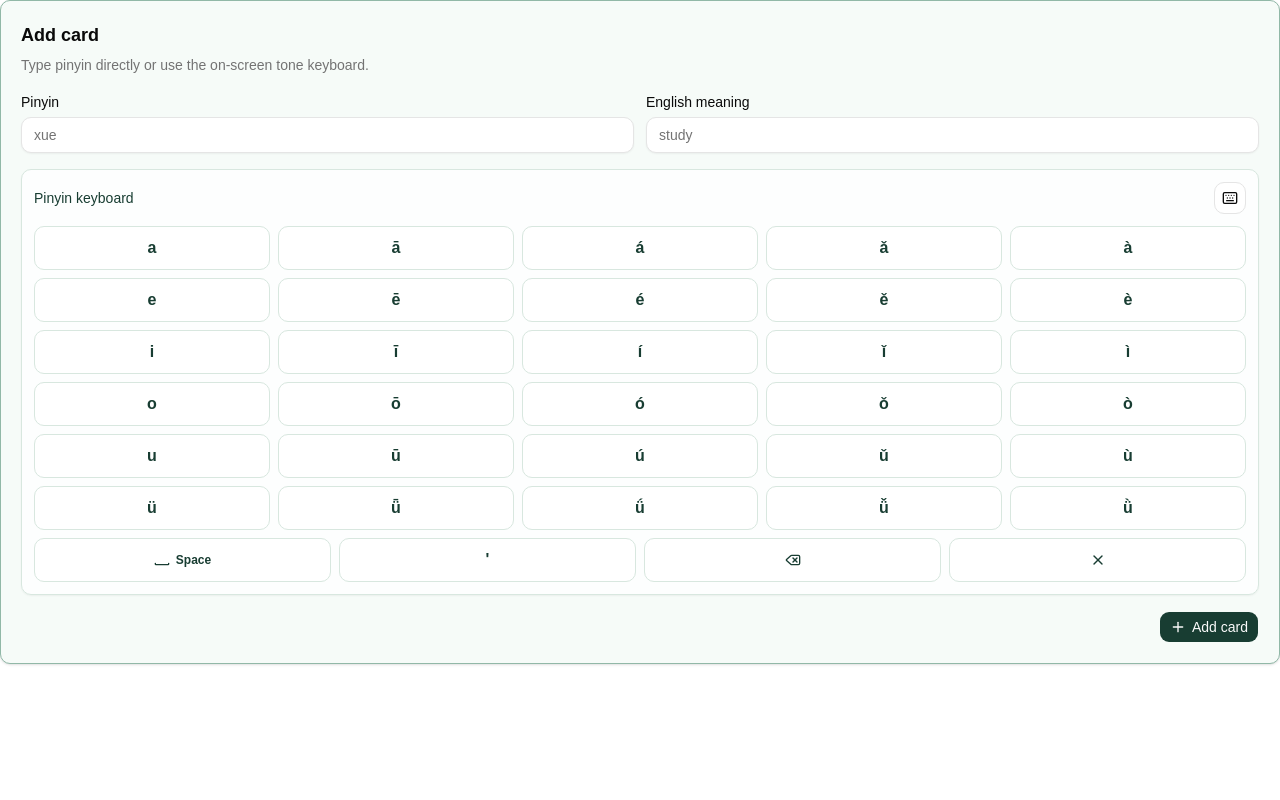
Test: AddCardTemplate › validates blank fields
What coordinates should you click on to do the following:
click the button "Add card"
I would click on:
 (1209, 627)
Its box is [1159, 611, 1259, 643].
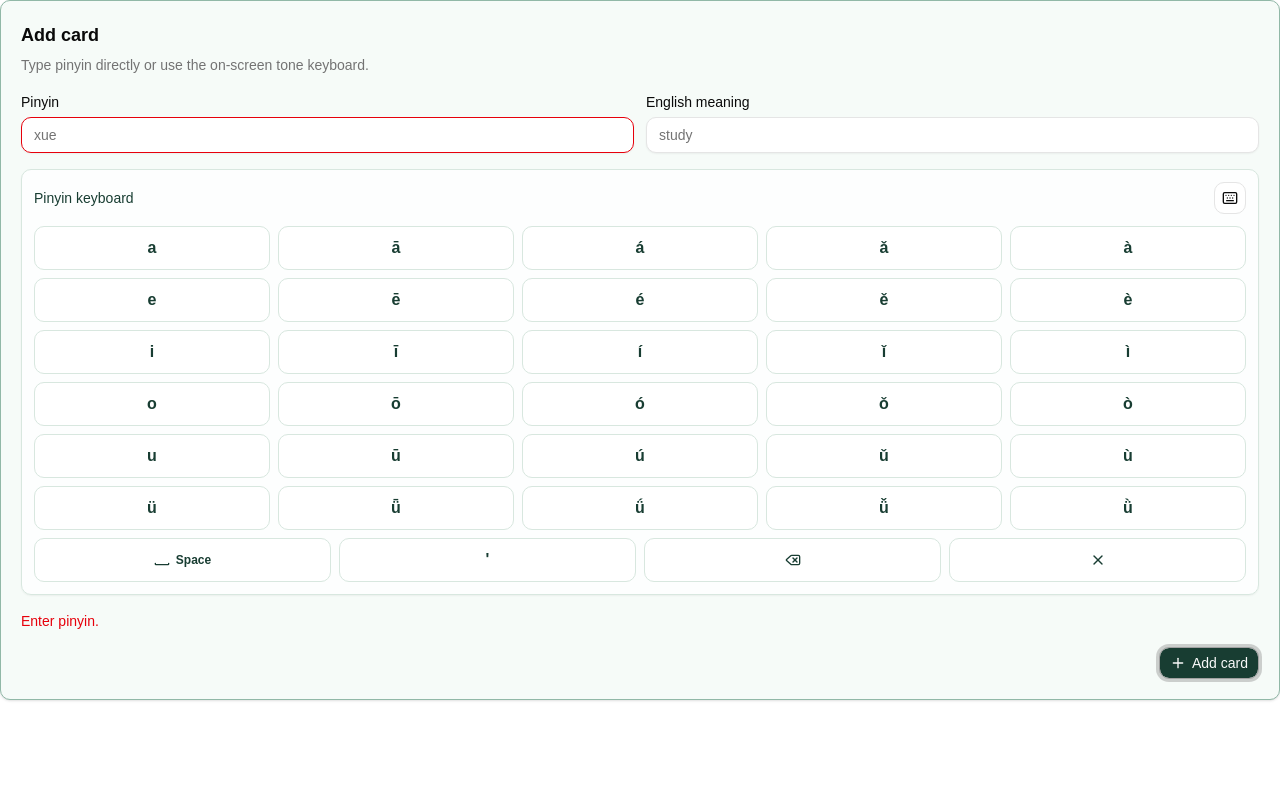
Check: the message reads "Enter pinyin.", box [21, 613, 99, 629]
